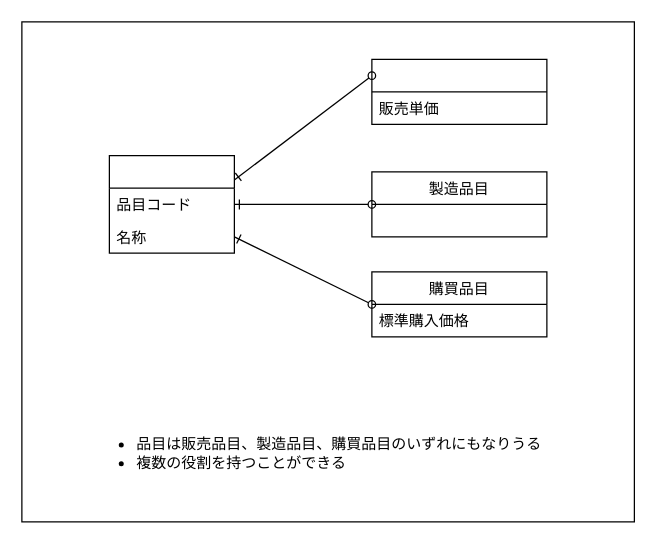
Image size: 656x544. Some labels were removed from this diagram. The shapes that lost their labels are listed below. From the top down, each one's box as (x1, y1, x2, y2) in pixels, then its label:
(371, 58, 547, 124): 販売品目
(108, 154, 234, 253): 品目
